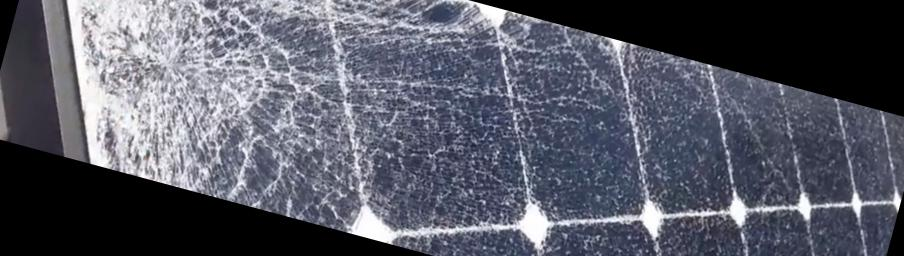Crack: (8, 0, 416, 234)
